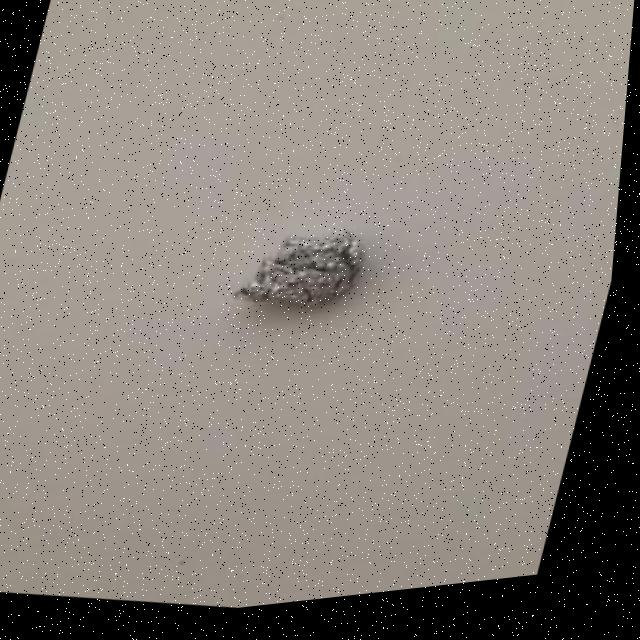metal: (221, 204, 397, 354)
